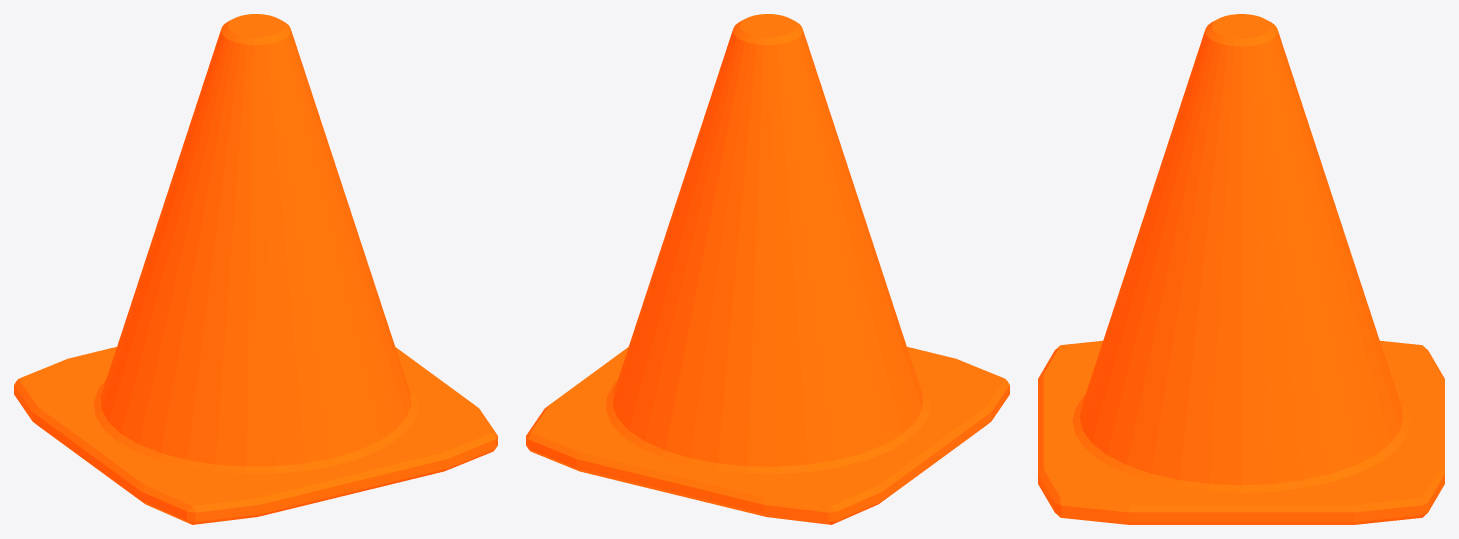
3 views of the same model, side by side, from view 1: azimuth 30°, elevation 25°; view 2: azimuth 150°, elevation 25°; view 3: azimuth 270°, elevation 25° (orthographic). The views are drawn at different scales.
Parts seen in each view (by area): view 1: cone; view 2: cone; view 3: cone.
Part boxes in pixels (x1,y1,x2,y2): cone: (14,14,497,524); cone: (526,14,1009,524); cone: (1038,14,1444,524).
Size of the model in its own units: 37.31 by 42 by 37.31.
